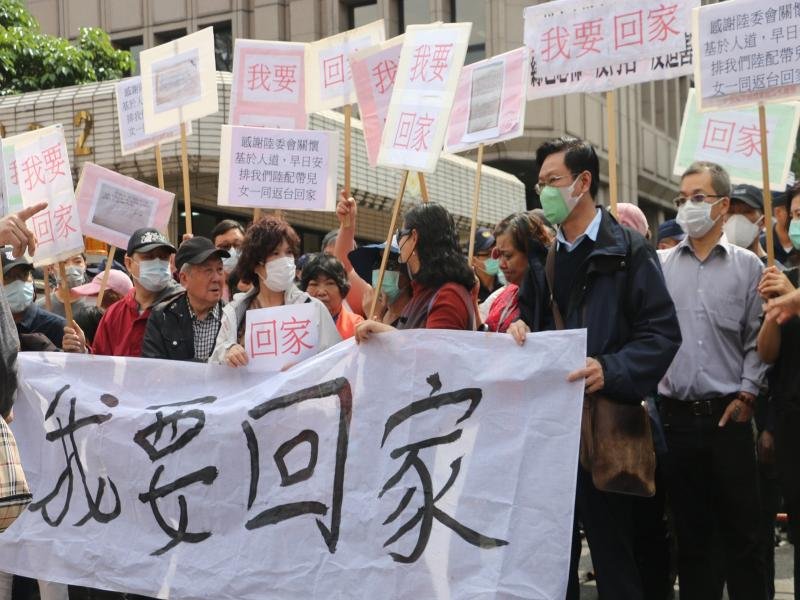bad: (189, 257, 227, 307), (306, 273, 341, 317), (497, 246, 525, 290)
good: (673, 186, 720, 239), (534, 171, 574, 227), (260, 245, 297, 294), (722, 201, 760, 248), (135, 250, 173, 294), (369, 258, 405, 303), (1, 270, 35, 317), (52, 251, 88, 293), (212, 237, 246, 274), (392, 230, 414, 281), (787, 205, 800, 250), (481, 249, 501, 278)
